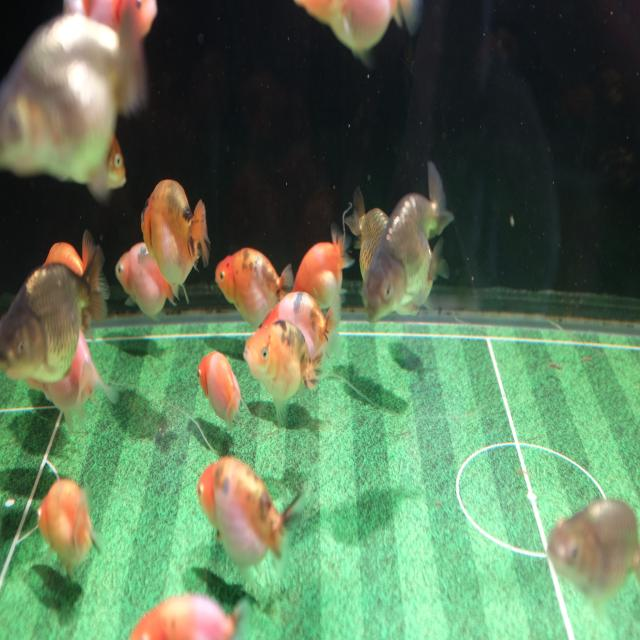Tilapia: (0, 0, 158, 203), (346, 160, 454, 324), (0, 229, 110, 383), (196, 454, 306, 572), (546, 497, 640, 611), (140, 177, 211, 305), (242, 321, 323, 420), (30, 471, 97, 576), (215, 246, 294, 330), (254, 293, 342, 363), (129, 592, 244, 639), (294, 232, 356, 318), (115, 241, 177, 319), (196, 349, 251, 430)
